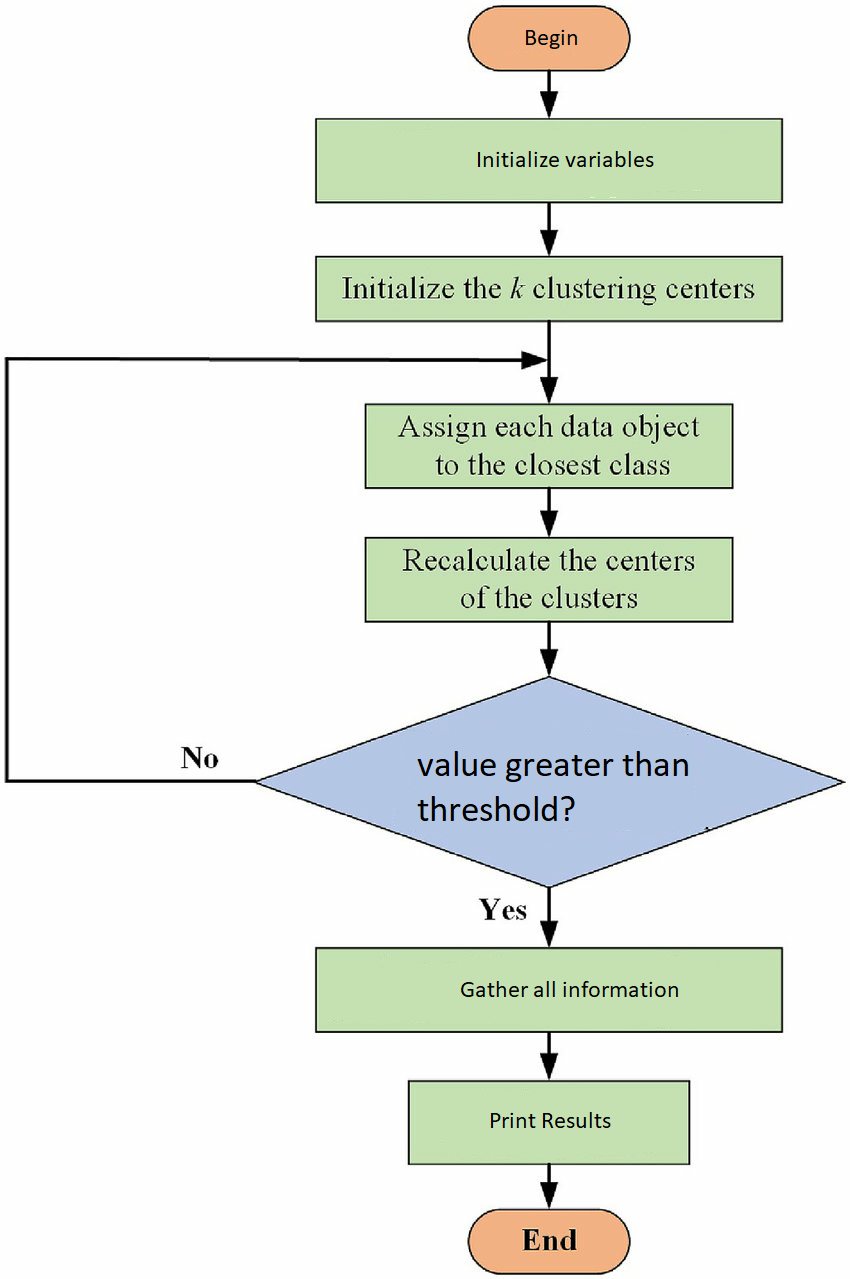arrow: (2, 348, 547, 787), (539, 322, 561, 405), (537, 887, 561, 948), (537, 628, 562, 679), (535, 71, 562, 114), (537, 203, 561, 250), (539, 1028, 559, 1081), (537, 491, 561, 534), (537, 1165, 559, 1209)
decision: (257, 683, 843, 891)
process: (308, 942, 788, 1040), (312, 114, 790, 203), (312, 250, 786, 328), (357, 532, 737, 628), (357, 403, 741, 491), (402, 1075, 696, 1171)
terminator: (464, 1203, 628, 1279), (466, 3, 635, 69)
text: (413, 744, 690, 830), (396, 411, 704, 479), (396, 546, 700, 614), (337, 271, 761, 309), (453, 973, 684, 1007), (474, 142, 659, 177), (482, 1107, 617, 1138), (517, 1222, 582, 1258), (476, 891, 531, 924), (521, 22, 580, 52), (176, 744, 223, 771)
